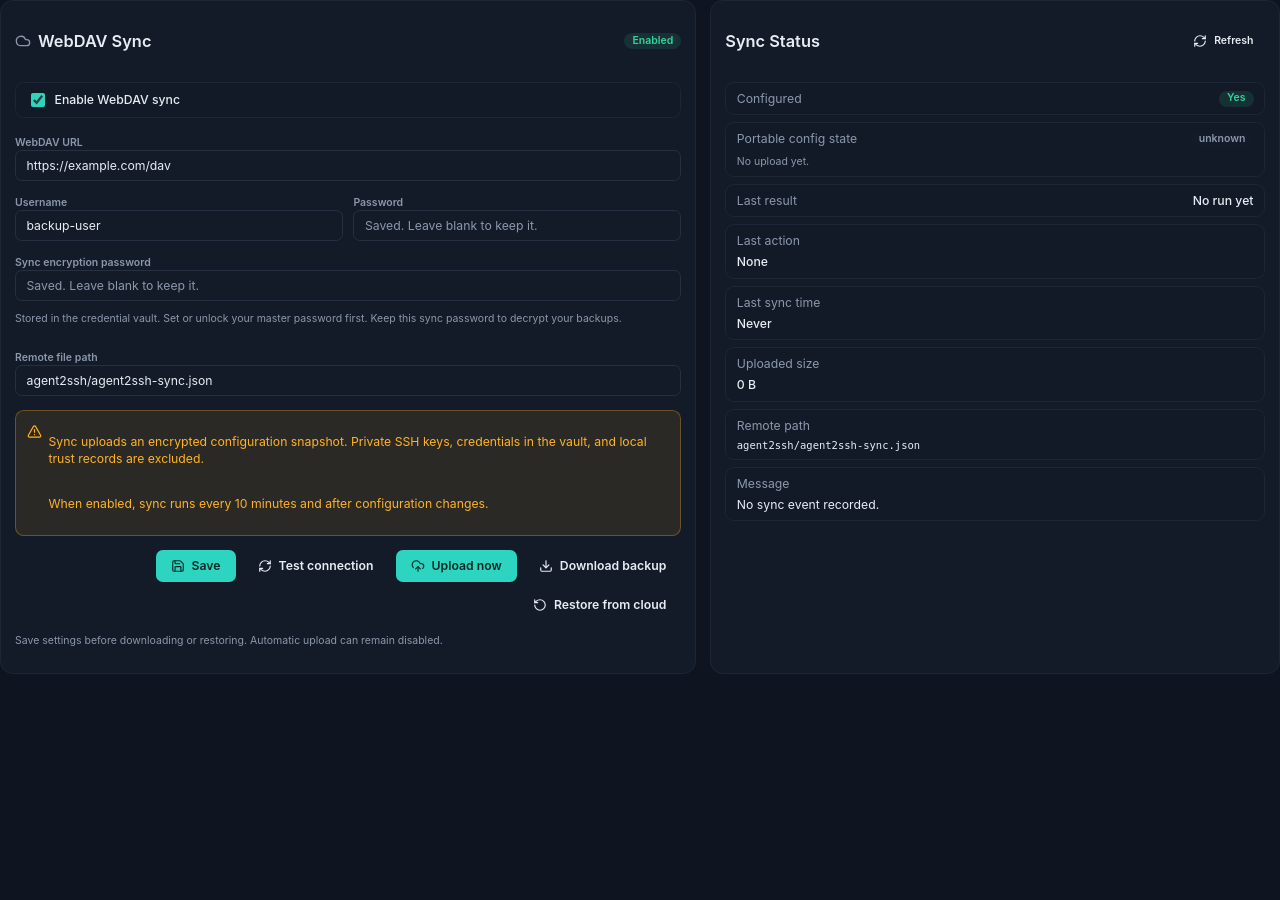
Test: SyncPanel encrypted upload settings › requires confirmation before restoring and refreshes the app after success
Click the button "Restore from cloud".
click(600, 605)  # box x1=518 y1=589 x2=681 y2=620
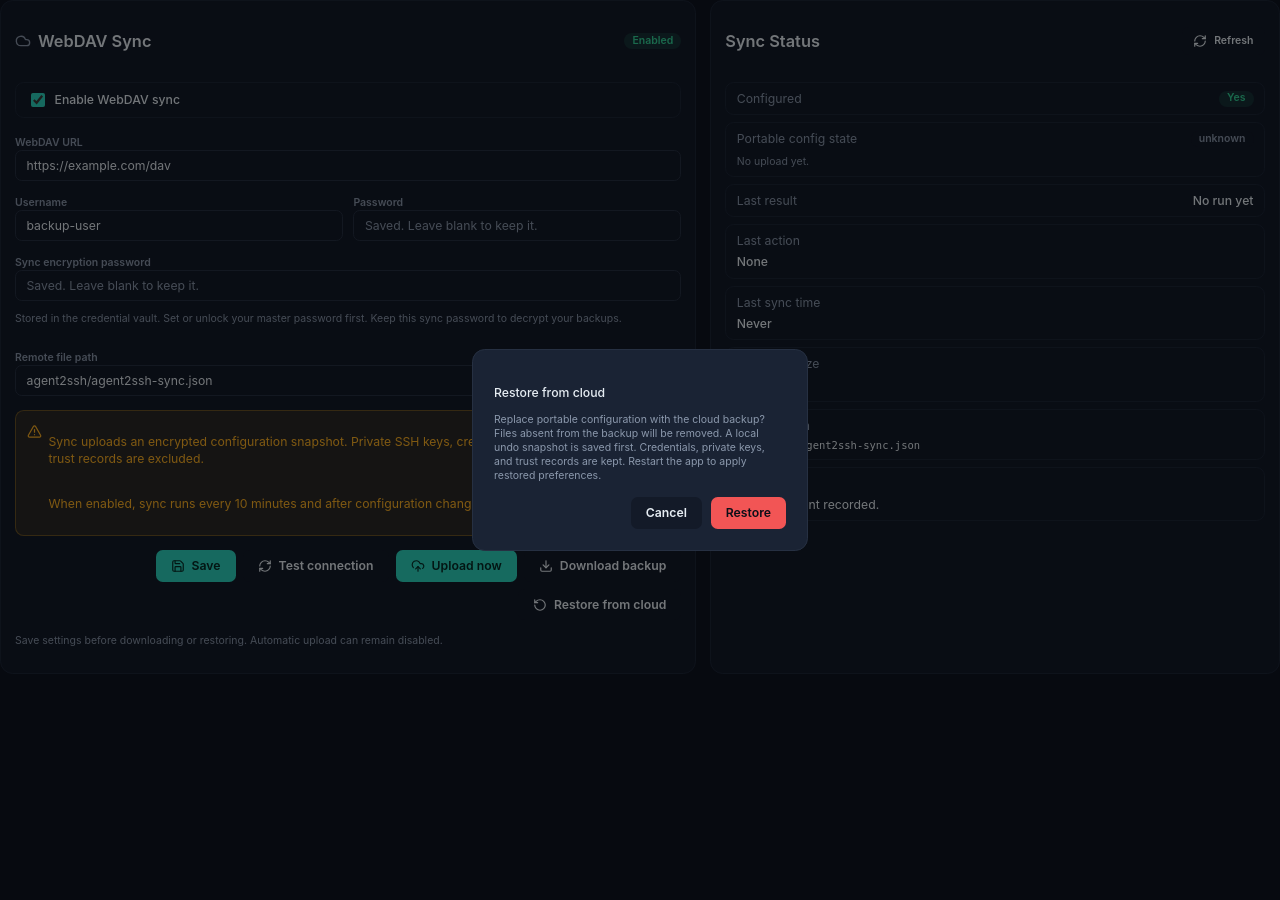
Click the button "Cancel".
click(666, 513)  # box x1=631 y1=497 x2=702 y2=529
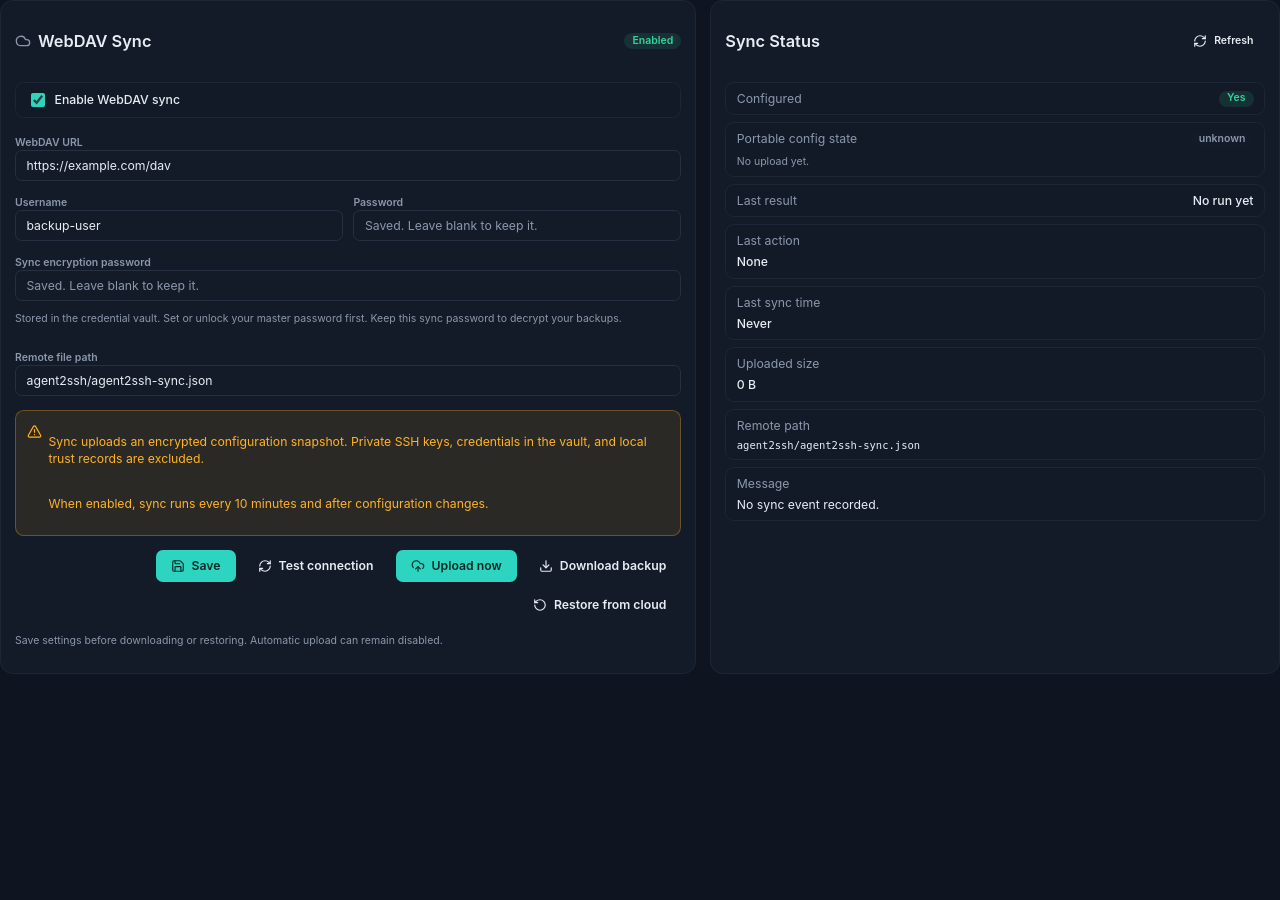
Click the button "Restore from cloud".
click(600, 605)  # box x1=518 y1=589 x2=681 y2=620
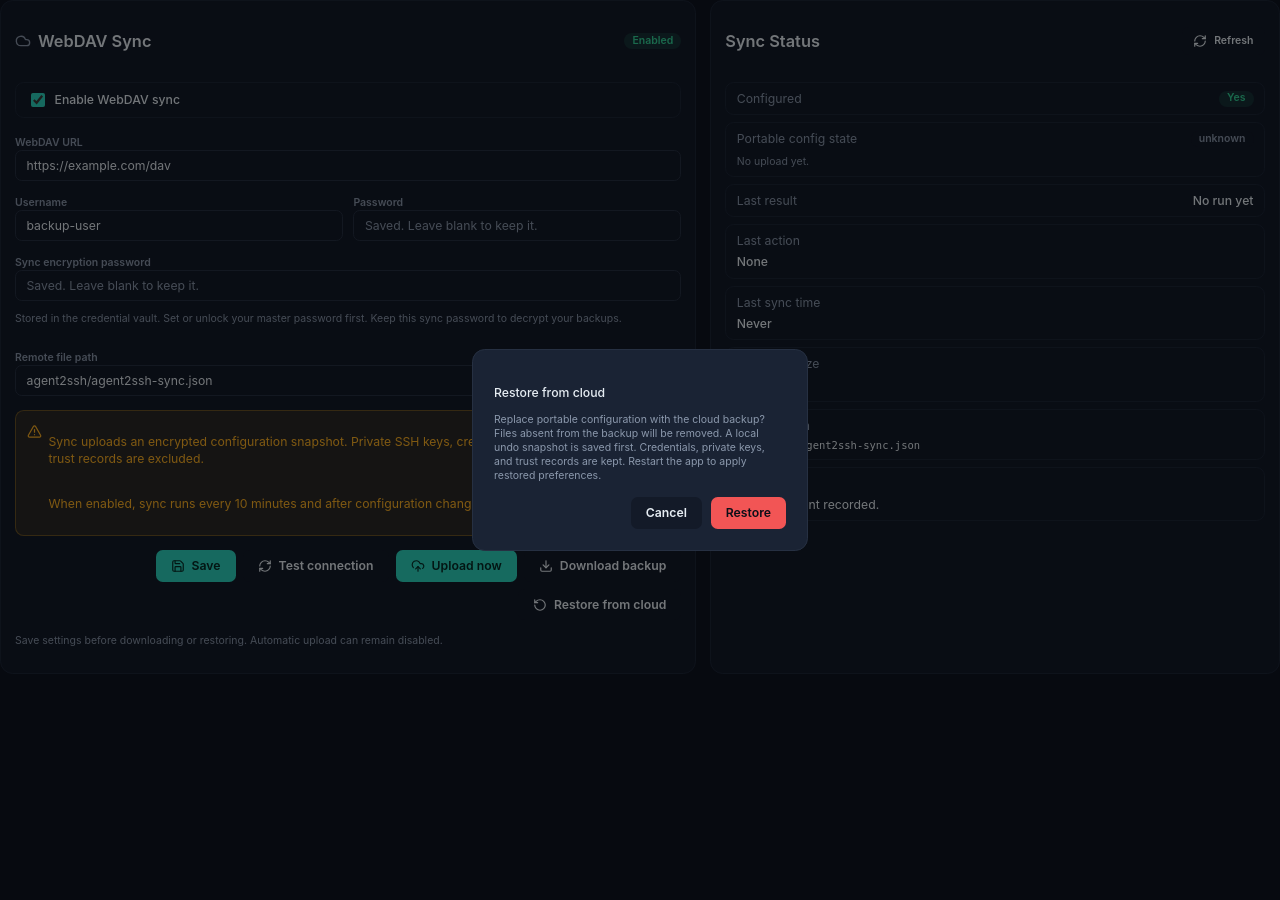
Click the button "Restore".
click(748, 513)  # box x1=711 y1=497 x2=786 y2=529
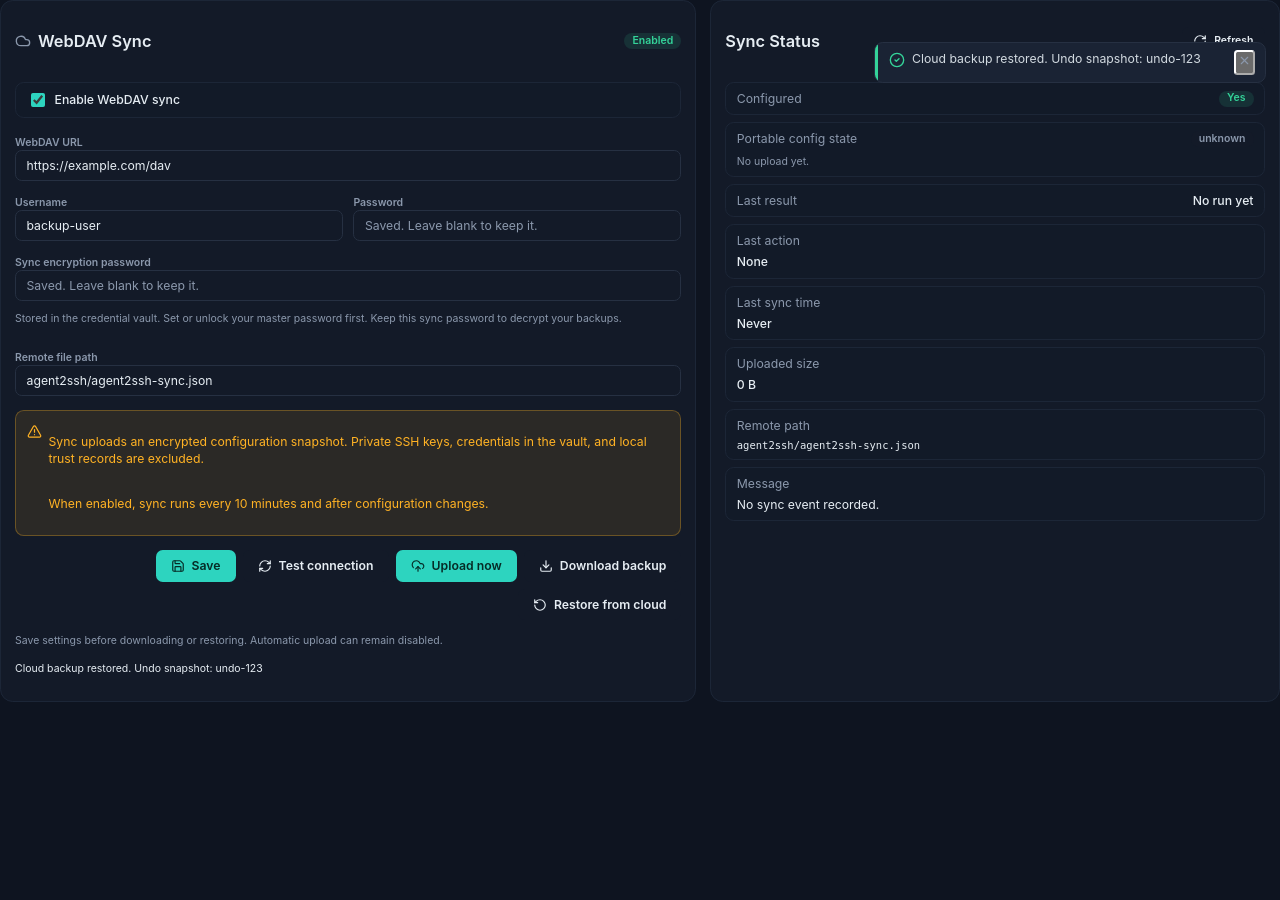
Expected: the text "Cloud backup restored. Undo snapshot: undo-123" below "Remote file path" is shown, x1=15 y1=662 x2=263 y2=675
